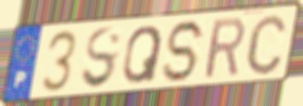3: (40, 29, 79, 95)
C: (244, 12, 289, 78)
Q: (121, 23, 165, 86)
R: (203, 15, 246, 82)
S: (160, 18, 208, 85), (79, 25, 123, 91)
